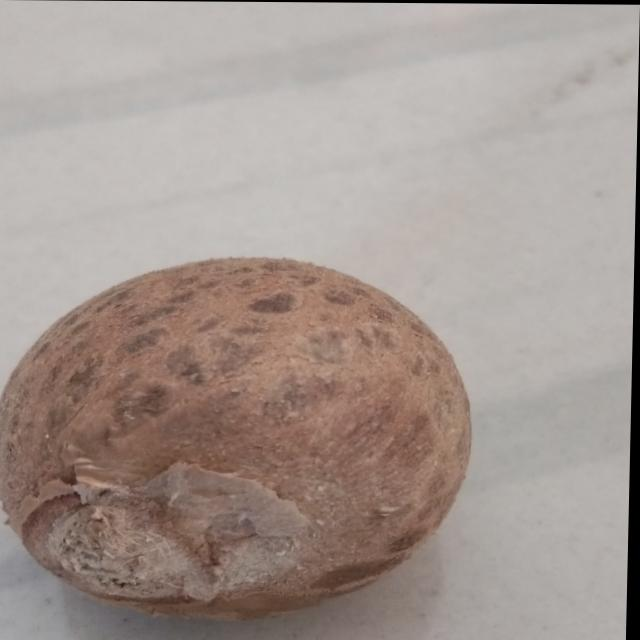good: (0, 246, 497, 623)
